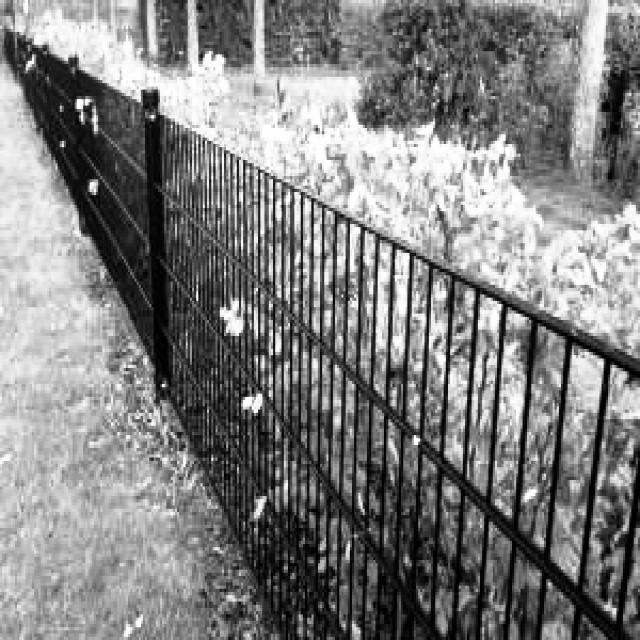fences: (154, 108, 640, 634), (26, 37, 148, 311)
